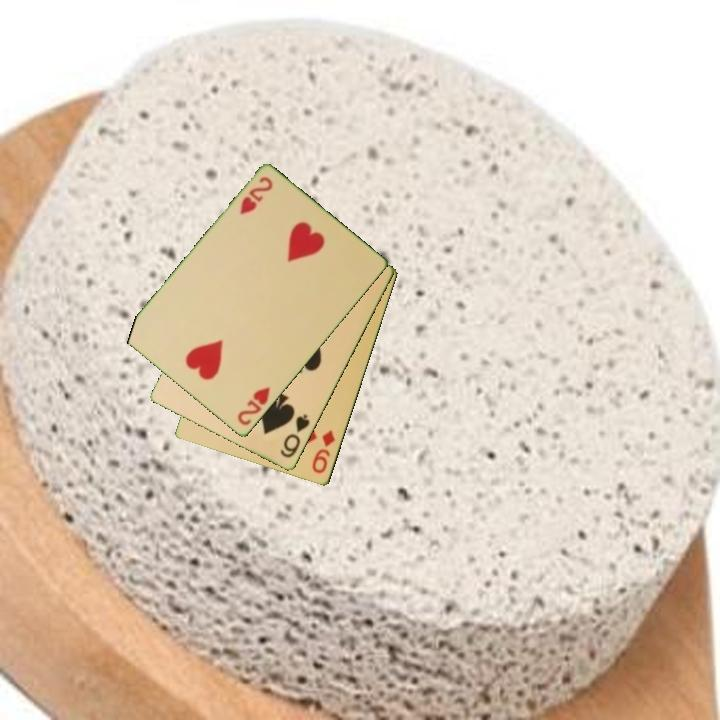2h: (236, 173, 276, 218), (234, 384, 273, 429)
6s: (276, 411, 313, 461)
9d: (309, 427, 339, 477)
